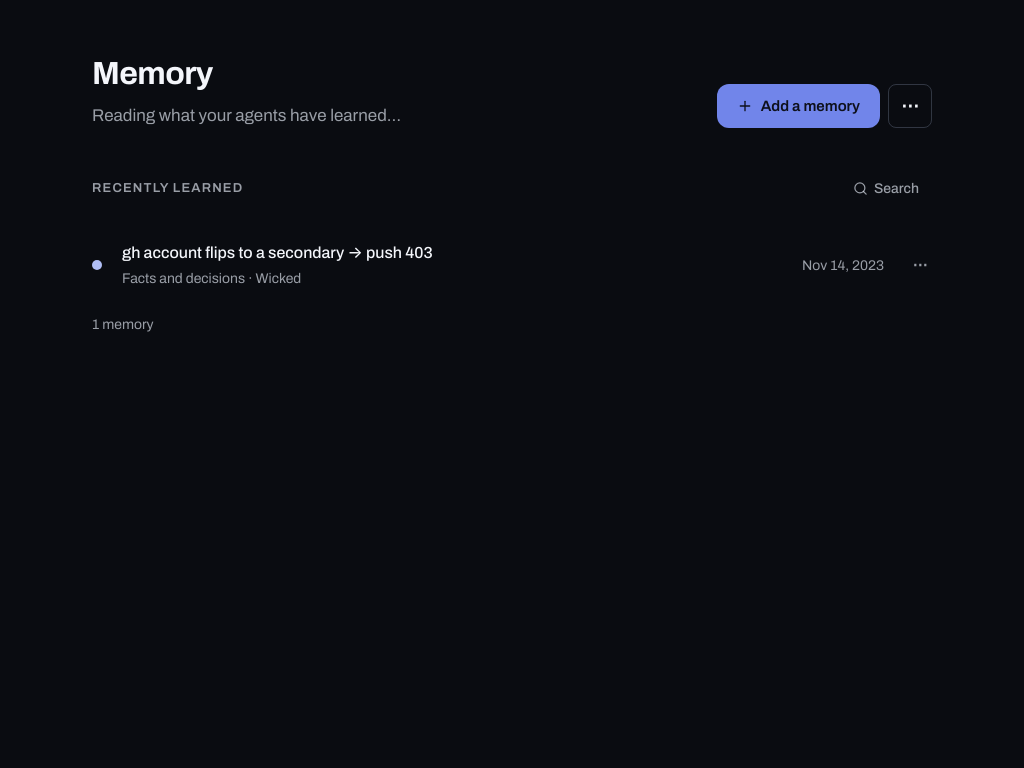
it: MemoryPage — the store, read honestly › a slow mount coverage read that lands AFTER a newer one cannot put the stale total back
Click the button with test id "memory-actions-button" at (920, 265), box left=900, top=245, right=940, bottom=285
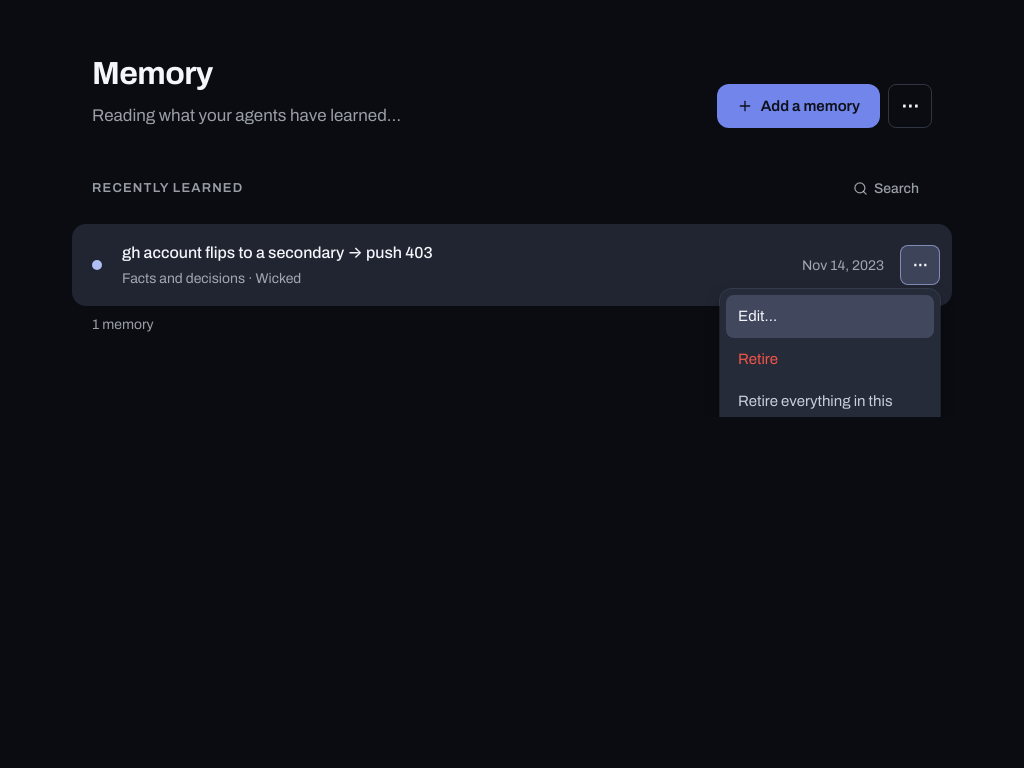
Click the menu item "Retire" at (830, 359), box left=726, top=338, right=934, bottom=380
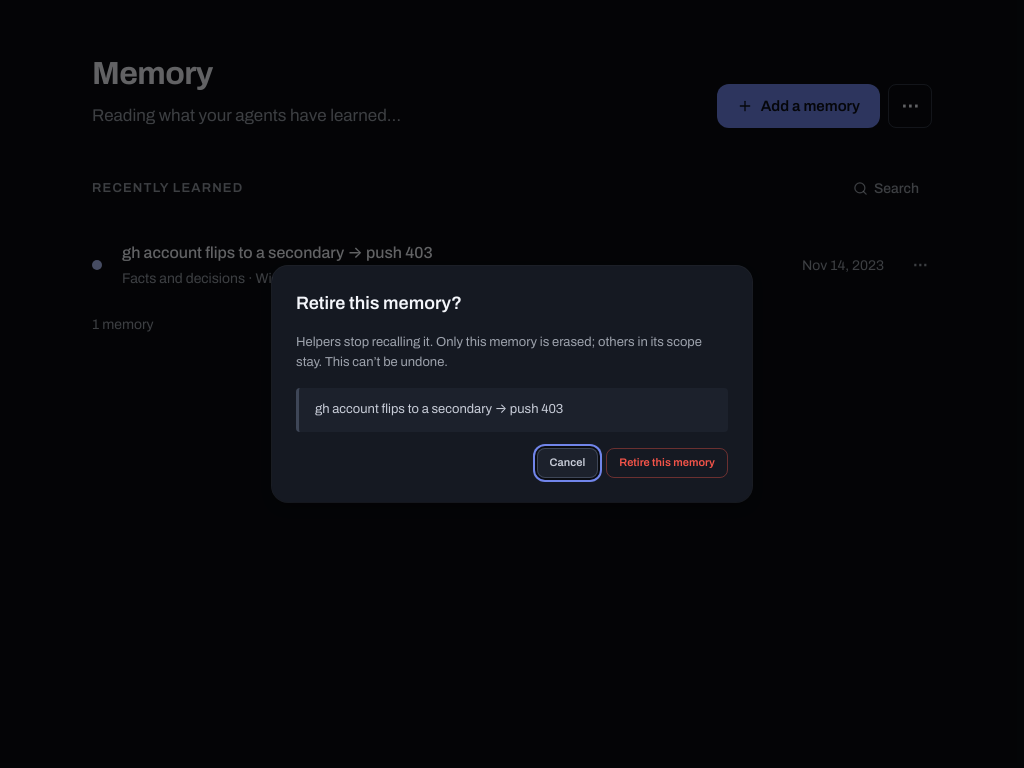
Click the button with test id "memory-retire-confirm" at (667, 463), box left=606, top=448, right=728, bottom=478
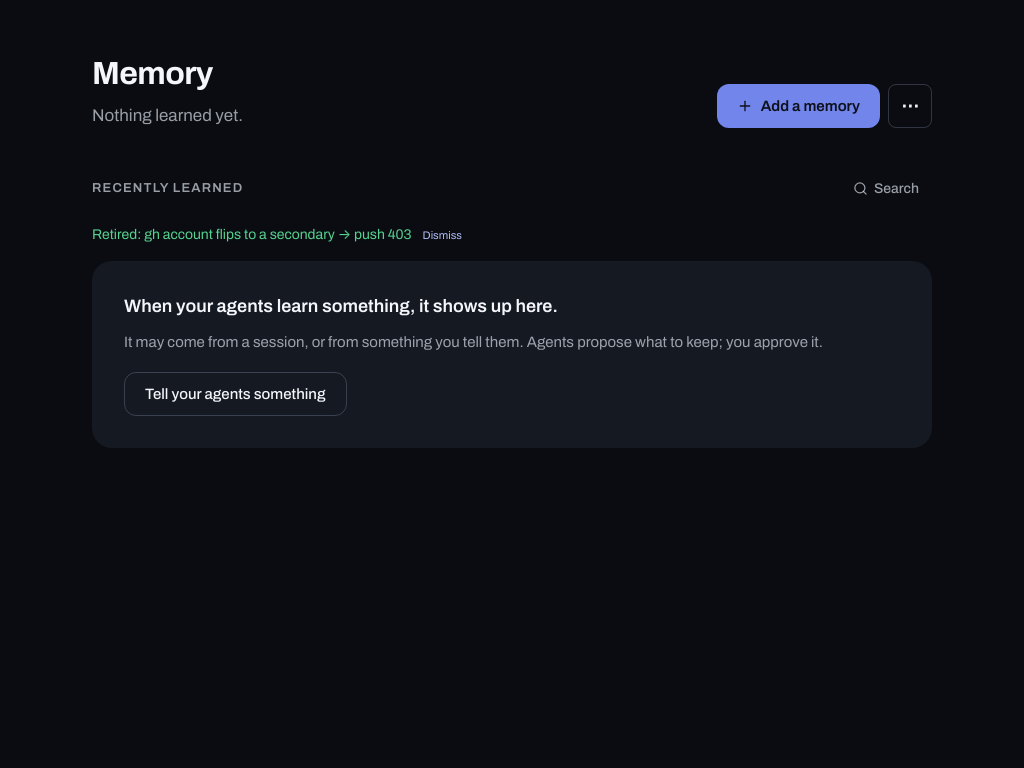
Result: the element with test id "memory-sentence" reads "Nothing learned yet." at left=92, top=106, right=243, bottom=125
